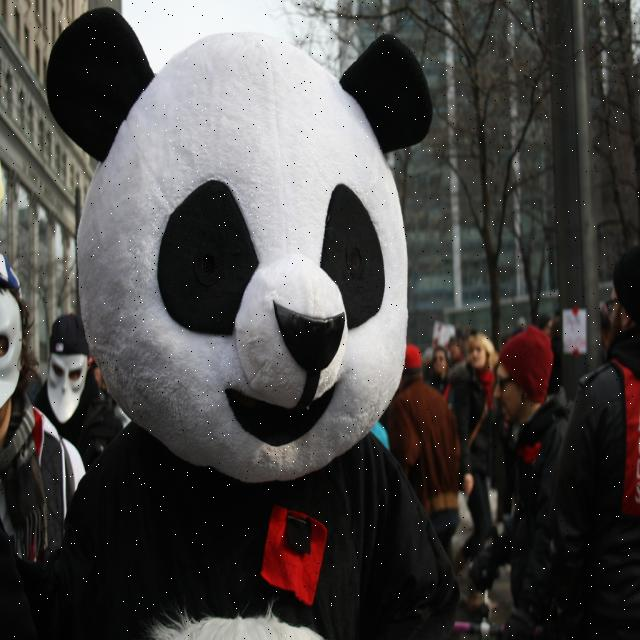panda: (1, 1, 464, 639)
